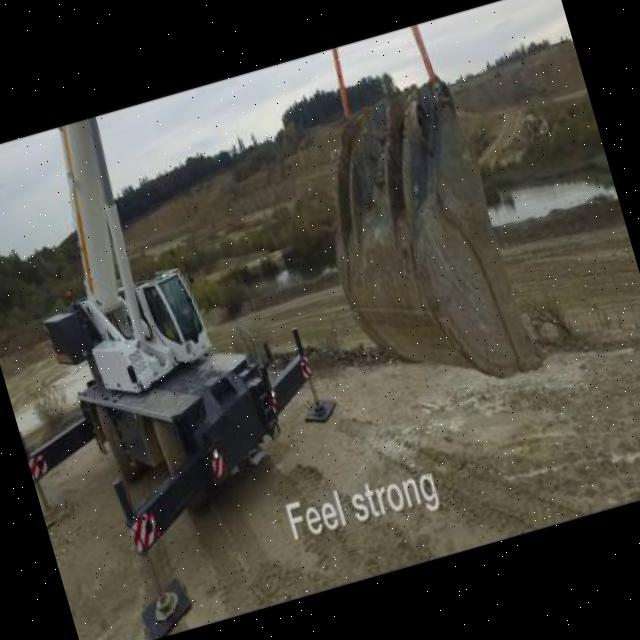Mobile Crane: (0, 9, 556, 564)
